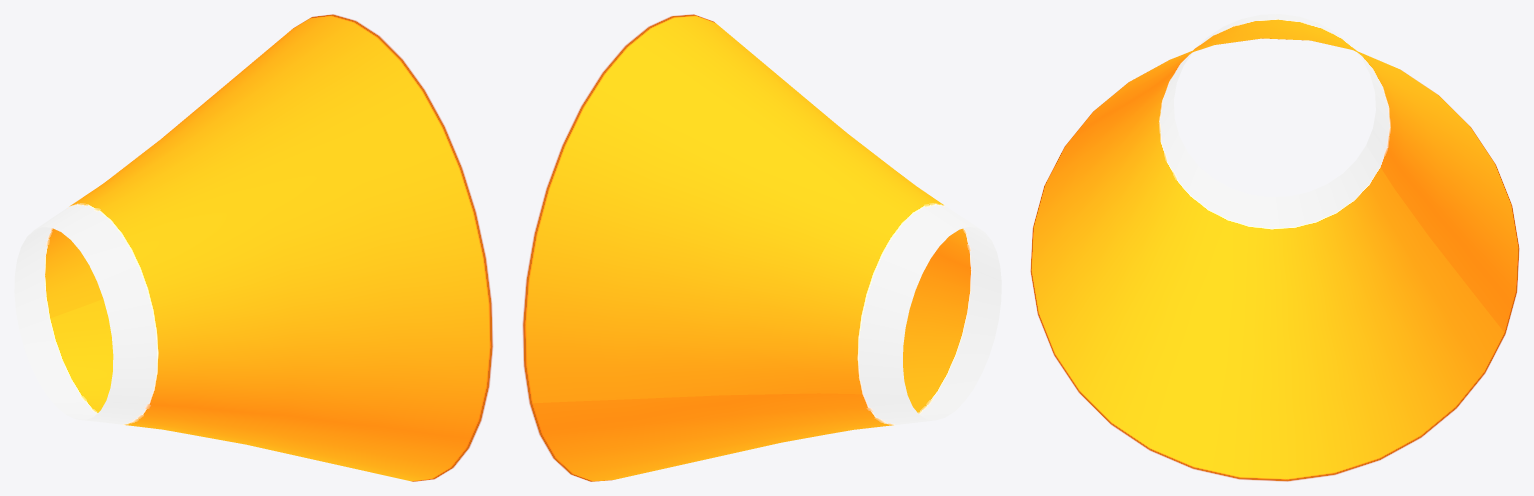
The model's file is portal_entrance.glb.
3 views of the same model, side by side, from view 1: azimuth 30°, elevation 25°; view 2: azimuth 150°, elevation 25°; view 3: azimuth 270°, elevation 25° (orthographic). The views are drawn at different scales.
Visible parts, largest first — view 1: portal_entrance; view 2: portal_entrance; view 3: portal_entrance.
Part boxes in pixels (left/top/right/bottom): portal_entrance: left=14, top=14, right=493, bottom=481; portal_entrance: left=522, top=14, right=1001, bottom=481; portal_entrance: left=1030, top=14, right=1519, bottom=481.
Size of what is drawn, in the model's own units: 2.46 by 3.29 by 3.29.
1 material, 1 textured.
